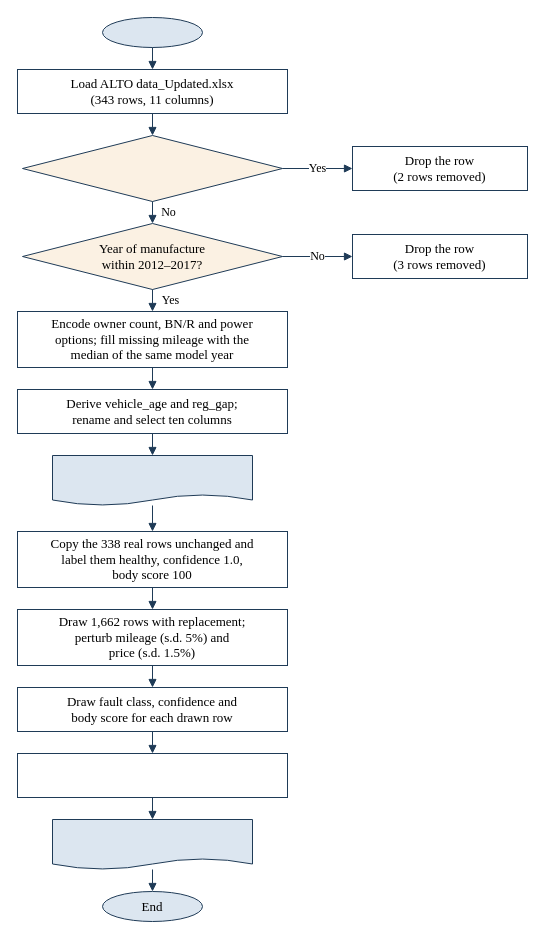
Image size: 545x939. Some labels were removed from this diagram. Here are the shapes that lost their labels. From the top down, the centre of each, then its label:
(x=152, y=32): Start
(x=152, y=168): Listed price above LKR 10 million?
(x=152, y=480): alto_clean.csv (338 rows)
(x=152, y=775): Subtract engine and body deductions from price (floor LKR 0.5 million)
(x=152, y=844): holistic_augmented.csv (2,000 rows)
